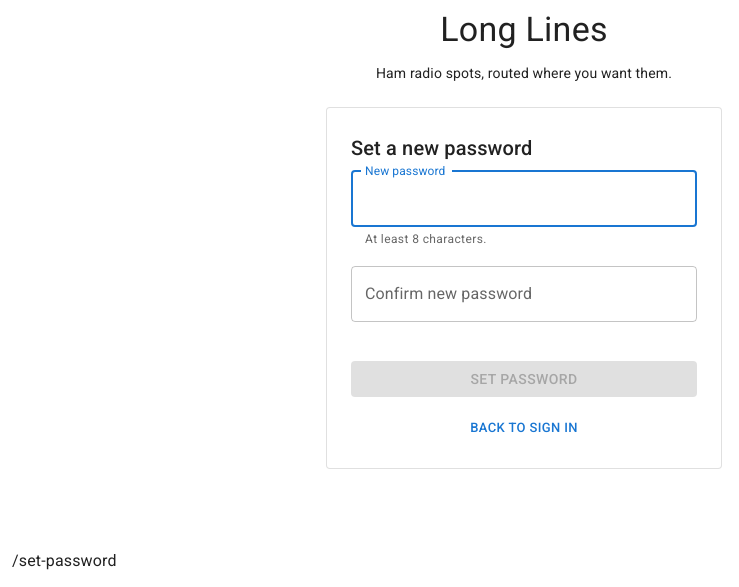
Test: SetPasswordPage › validates length and confirmation
Type "short" into the password field labelled "New password". click: (524, 199)
box: [351,171,697,227]
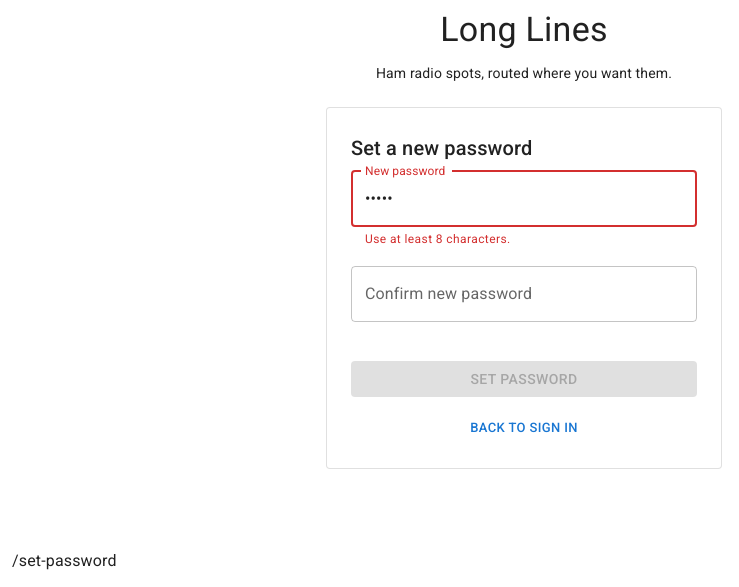
Type "other" into the password field labelled "Confirm new password". click: (524, 294)
box: [351,266,697,322]
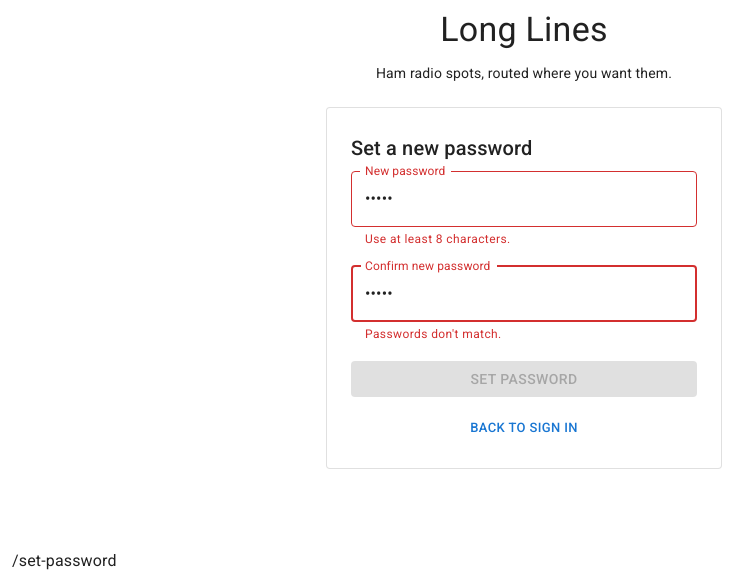
expect the button "Set password" is disabled: met, box [351,361,697,397]
expect the text "Use at least 8 characters." is shown: met, box [365,232,510,246]
expect the text "Passwords don't match." is shown: met, box [365,327,502,341]
